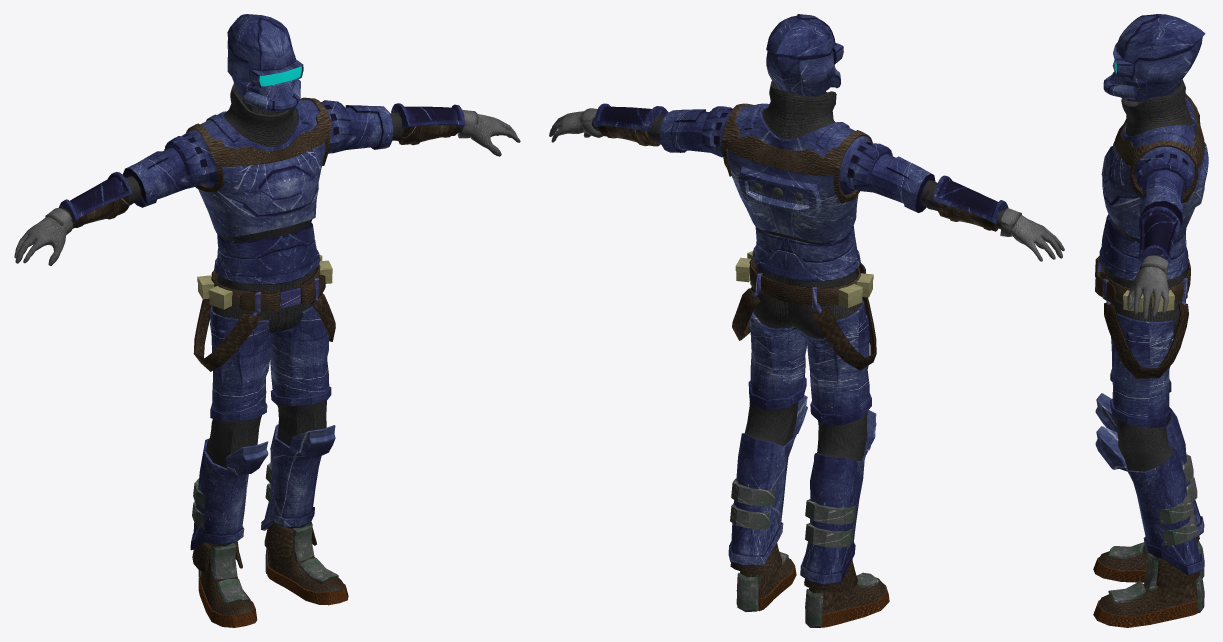
The model's file is Adventurer_Male.fbx.
The picture shows the model from 3 angles, left to right: view 1: azimuth 30°, elevation 25°; view 2: azimuth 150°, elevation 25°; view 3: azimuth 270°, elevation 25°; orthographic projection.
Visible parts, largest first — view 1: Main_Model; view 2: Main_Model; view 3: Main_Model.
Part boxes in pixels (left/top/right/bottom): Main_Model: left=14, top=14, right=520, bottom=627; Main_Model: left=549, top=14, right=1064, bottom=627; Main_Model: left=1093, top=14, right=1208, bottom=627.
Bounding box in the file's own units: 139 × 152 × 27.5.
1 material, 1 textured.
